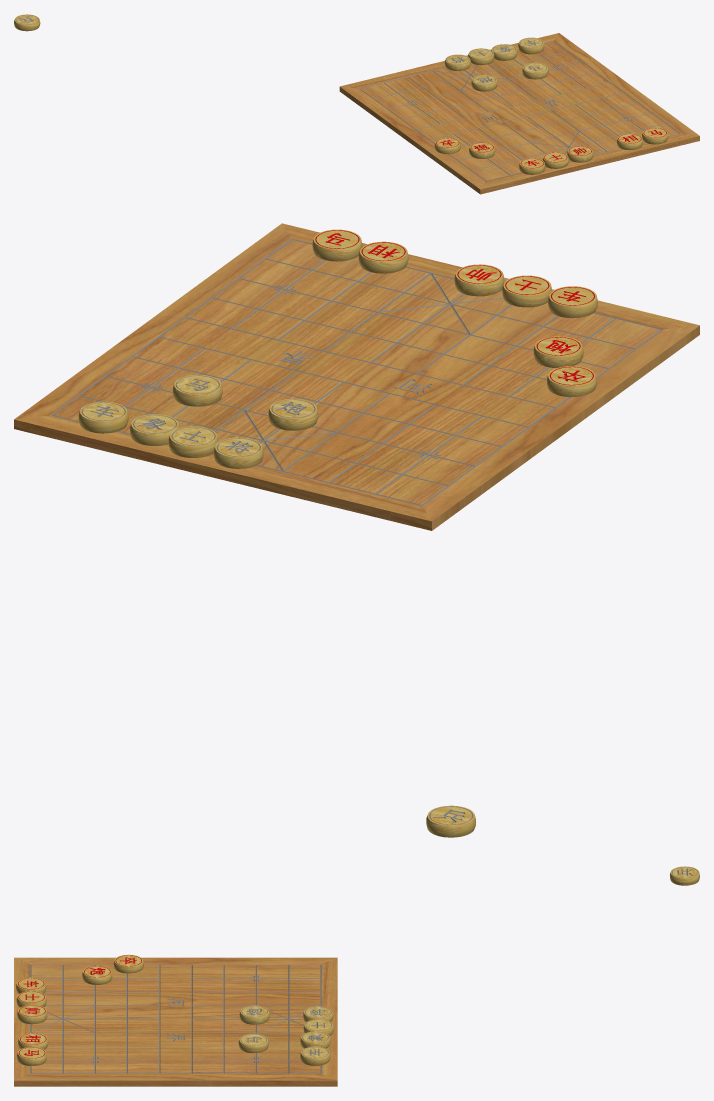
3 renders of one model, top to bottom at view 1: azimuth 30°, elevation 25°; view 2: azimuth 150°, elevation 25°; view 3: azimuth 270°, elevation 25°, orthographic. The views are drawn at different scales.
Visible parts, largest first — view 1: 棋盘, 黑马, 黑车, 红炮, 黑炮, 红马, 红车, 红相, 黑兵, 红帅, 黑将, 红士 (+3 smaller); view 2: 棋盘, 棋盘.001, 黑车, 红相, 红帅, 黑马, 黑炮, 黑兵, 红车, 红马, 黑将, 红炮 (+4 smaller); view 3: 棋盘, 黑车, 黑兵, 黑炮, 红炮, 红帅, 黑马, 红马, 红卒, 黑象, 红士, 红相 (+3 smaller).
Boxes of the visible parts, x1,y1,x2,y2 form: 棋盘: [339, 33, 699, 194]; 黑马: [522, 62, 548, 79]; 黑车: [518, 37, 544, 54]; 红炮: [469, 142, 495, 158]; 黑炮: [471, 74, 497, 91]; 红马: [642, 127, 668, 144]; 红车: [519, 158, 545, 174]; 红相: [616, 133, 642, 150]; 黑兵: [14, 14, 40, 31]; 红帅: [567, 146, 593, 162]; 黑将: [444, 54, 470, 70]; 红士: [542, 152, 568, 168]; 棋盘: [14, 223, 699, 530]; 棋盘.001: [32, 223, 676, 474]; 黑车: [78, 401, 128, 433]; 红相: [358, 241, 408, 273]; 红帅: [454, 264, 504, 296]; 黑马: [172, 374, 222, 406]; 黑炮: [268, 398, 318, 430]; 黑兵: [426, 805, 475, 837]; 红车: [548, 286, 597, 318]; 红马: [312, 229, 362, 261]; 黑将: [213, 437, 263, 468]; 红炮: [533, 336, 583, 368]; 棋盘: [14, 957, 337, 1086]; 黑车: [300, 1046, 330, 1065]; 黑兵: [670, 866, 699, 885]; 黑炮: [239, 1005, 269, 1024]; 红炮: [82, 965, 112, 984]; 红帅: [17, 1005, 47, 1024]; 黑马: [238, 1034, 268, 1052]; 红马: [17, 1047, 46, 1065]; 红卒: [113, 954, 143, 973]; 黑象: [300, 1031, 330, 1048]; 红士: [16, 991, 46, 1007]; 红相: [18, 1033, 48, 1049].
Size of the model in its own units: 3230 by 134 by 4258.
5 materials, 2 textured.
